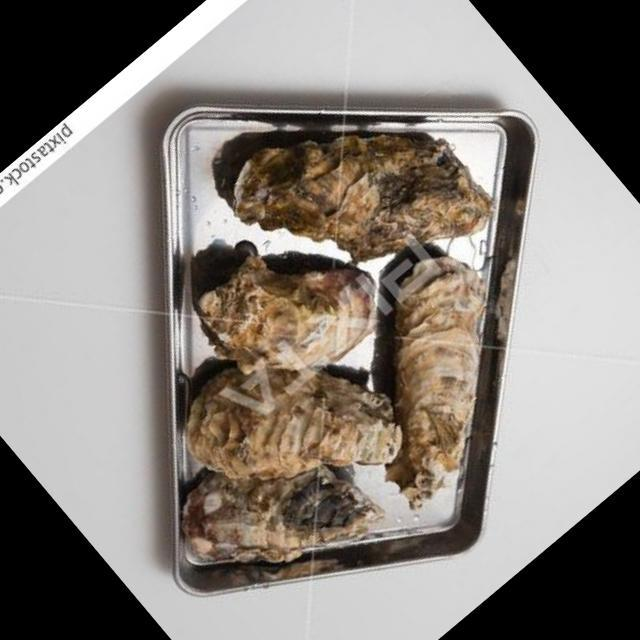Oyster- Indeterminate: (206, 122, 510, 266), (370, 248, 494, 516), (178, 238, 386, 392), (172, 362, 404, 492), (171, 461, 392, 580)
